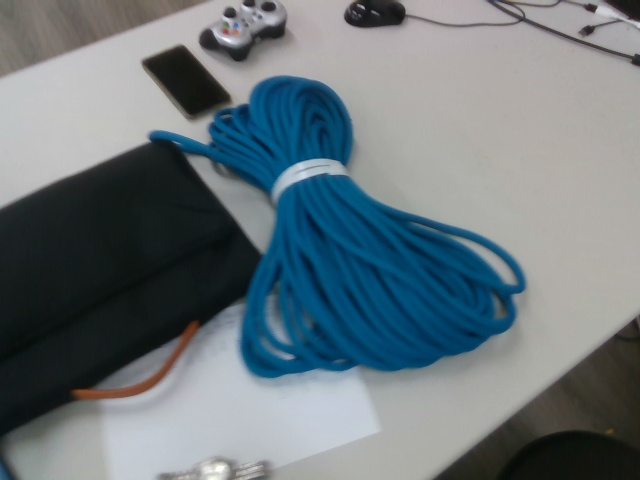rope: (144, 73, 531, 379)
